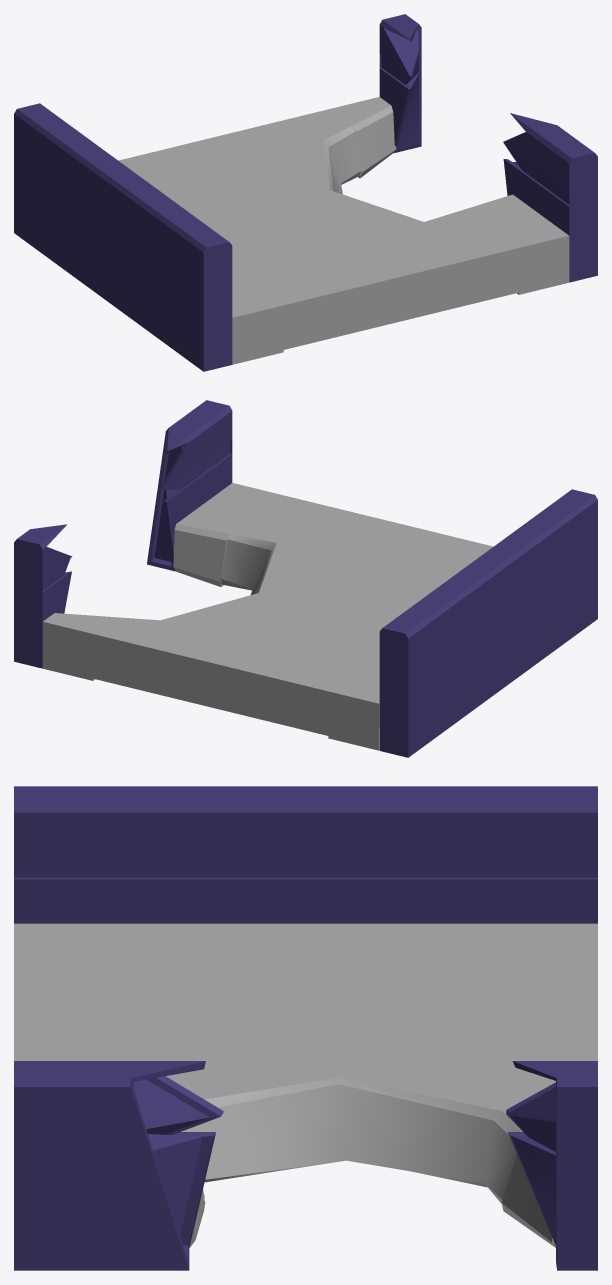
File: BrokenBridge.fbx
3 renders of one model, top to bottom at view 1: azimuth 30°, elevation 25°; view 2: azimuth 150°, elevation 25°; view 3: azimuth 270°, elevation 25°, orthographic. The views are drawn at different scales.
Parts seen in each view (by area): view 1: lod0; view 2: lod0; view 3: lod0.
Part boxes in pixels (x1,y1,x2,y2): lod0: [14, 14, 597, 371]; lod0: [14, 400, 597, 757]; lod0: [14, 786, 597, 1270].
Size of what is drawn, in the model's own units: 6 by 1.79 by 5.
